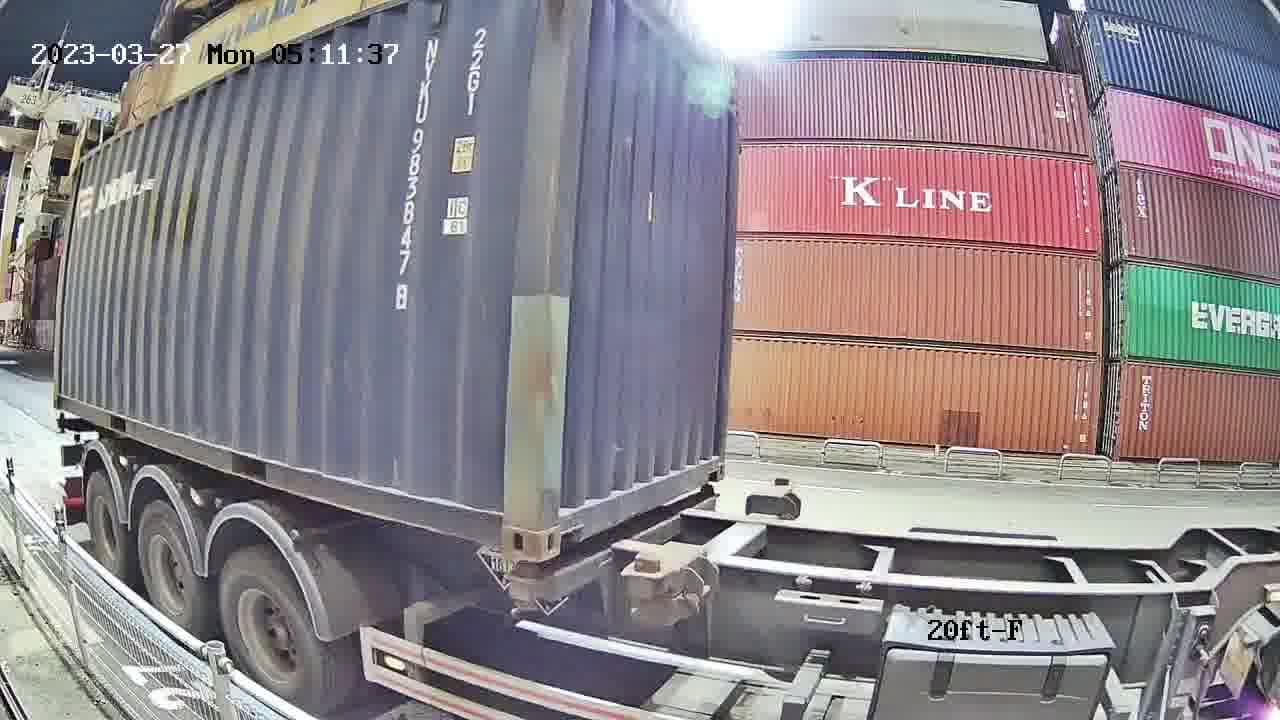Chassis: (508, 493, 717, 602)
Cone: (508, 563, 546, 619)
Hole_L: (538, 483, 592, 563)
Hole_R: (475, 489, 540, 562), (694, 439, 725, 488)
Tire: (218, 548, 322, 701), (137, 501, 199, 627), (84, 474, 125, 575)
